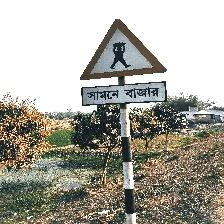Market-in-front: (79, 18, 168, 107)
